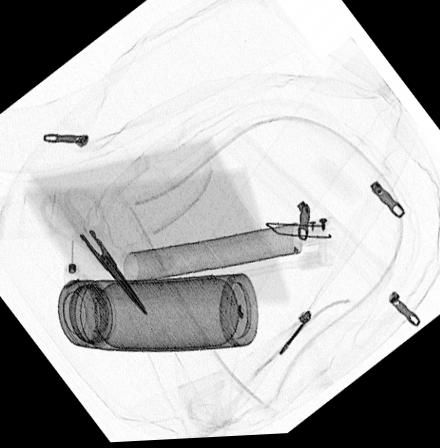Scissors: (38, 181, 151, 321)
